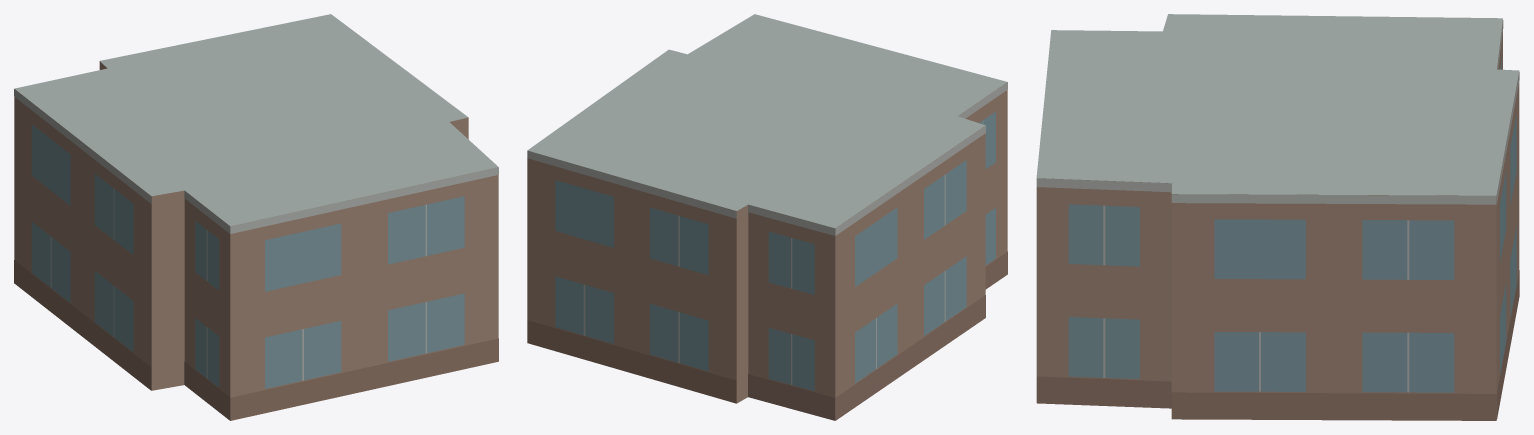
The model's file is survey-upis-32473074.glb.
3 renders of one model, left to right at view 1: azimuth 30°, elevation 25°; view 2: azimuth 150°, elevation 25°; view 3: azimuth 270°, elevation 25°, orthographic. The views are drawn at different scales.
Parts seen in each view (by area): view 1: survey-upis-32473074.tmp; view 2: survey-upis-32473074.tmp; view 3: survey-upis-32473074.tmp.
Boxes of the visible parts, <box> form: survey-upis-32473074.tmp: <box>14,14,498,420</box>; survey-upis-32473074.tmp: <box>527,14,1007,420</box>; survey-upis-32473074.tmp: <box>1036,14,1519,420</box>.
Bounding box in the file's own units: 10.56 × 6.1 × 11.87.
